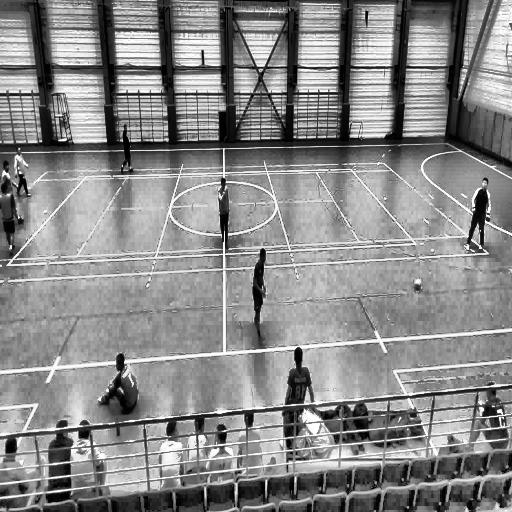ball: (414, 276, 421, 290)
player: (464, 177, 490, 249), (252, 248, 269, 346), (0, 156, 23, 228), (0, 181, 20, 257), (12, 146, 33, 200), (218, 175, 230, 249), (121, 125, 136, 175)
